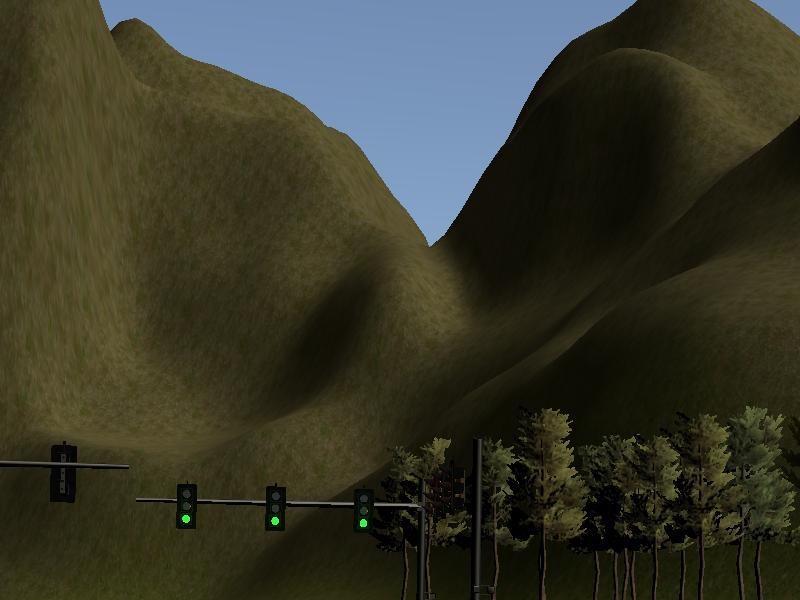traffic_light_green: (136, 481, 391, 534)
